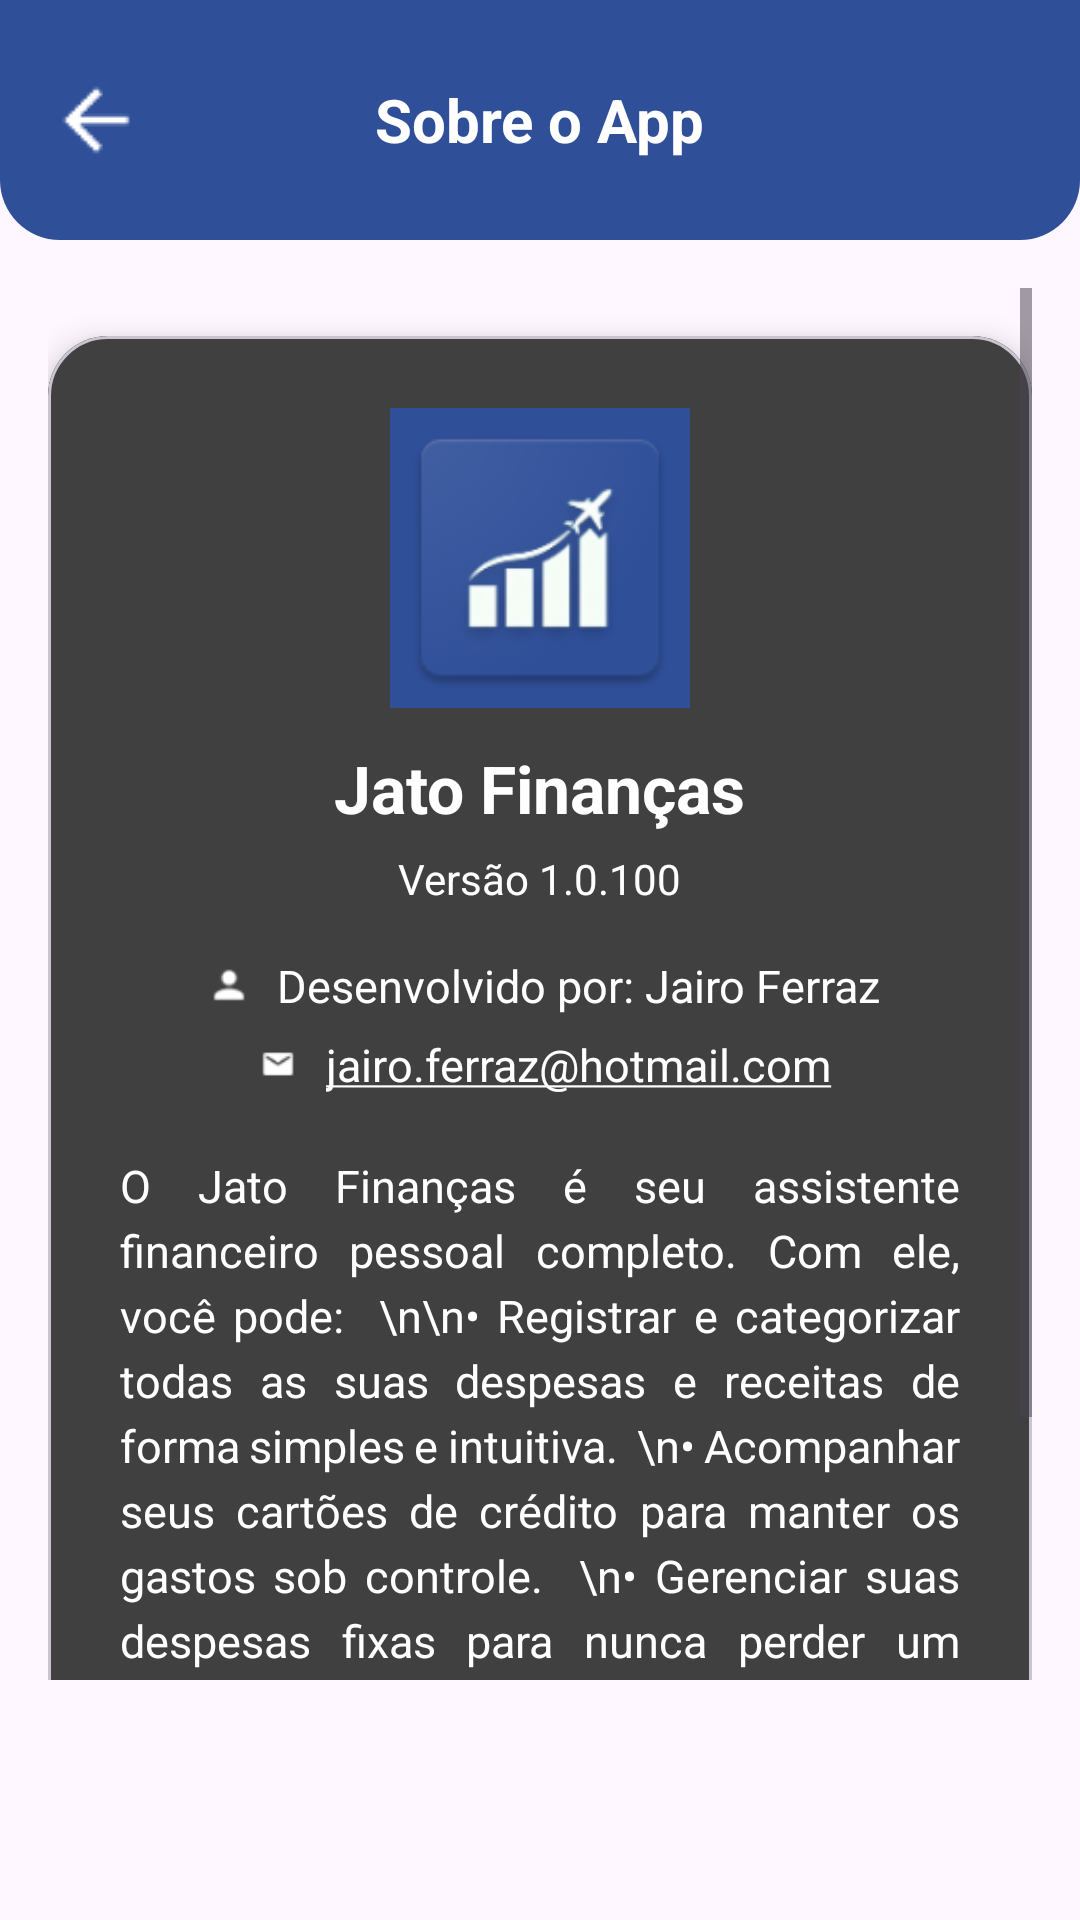

Named icons in this screenshot (1080x1920) and their centers, (x,y):
email: (278,1064)
person: (229,985)
Voltar: (96,120)
